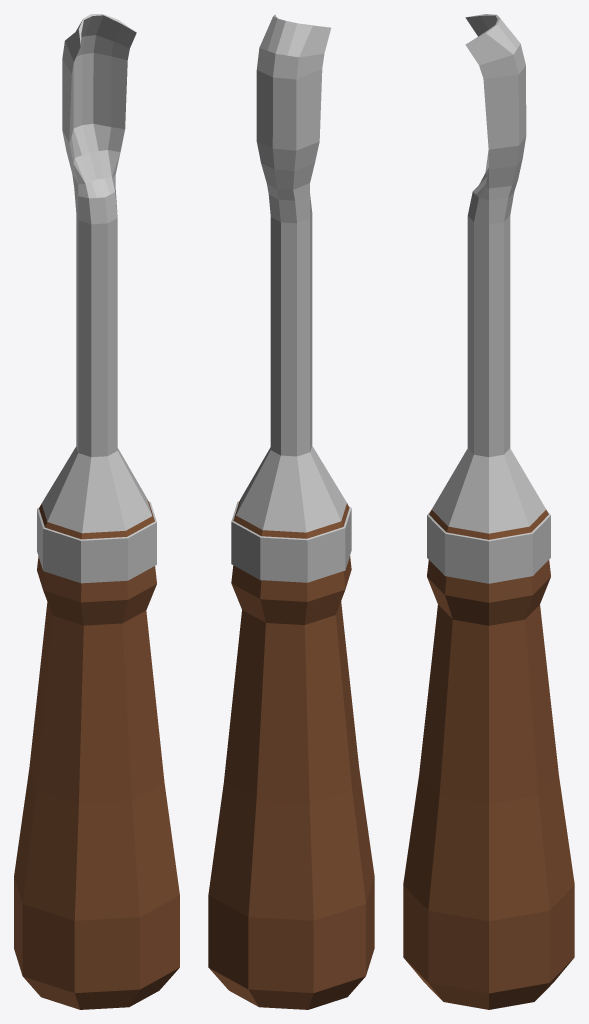
Rendered from chisel03.obj.
3 renders of one model, left to right at view 1: azimuth 30°, elevation 25°; view 2: azimuth 150°, elevation 25°; view 3: azimuth 270°, elevation 25°, orthographic.
Visible parts, largest first — view 1: Cylinder_Cylinder.002; view 2: Cylinder_Cylinder.002; view 3: Cylinder_Cylinder.002.
Part boxes in pixels (box(x1,y1,x2,y2)): Cylinder_Cylinder.002: box(14, 14, 179, 1009); Cylinder_Cylinder.002: box(208, 14, 374, 1009); Cylinder_Cylinder.002: box(403, 14, 574, 1009).
Size of the model in its own units: 0.0276 by 0.1713 by 0.0276.
Materials: 1 (1 with a texture image).
